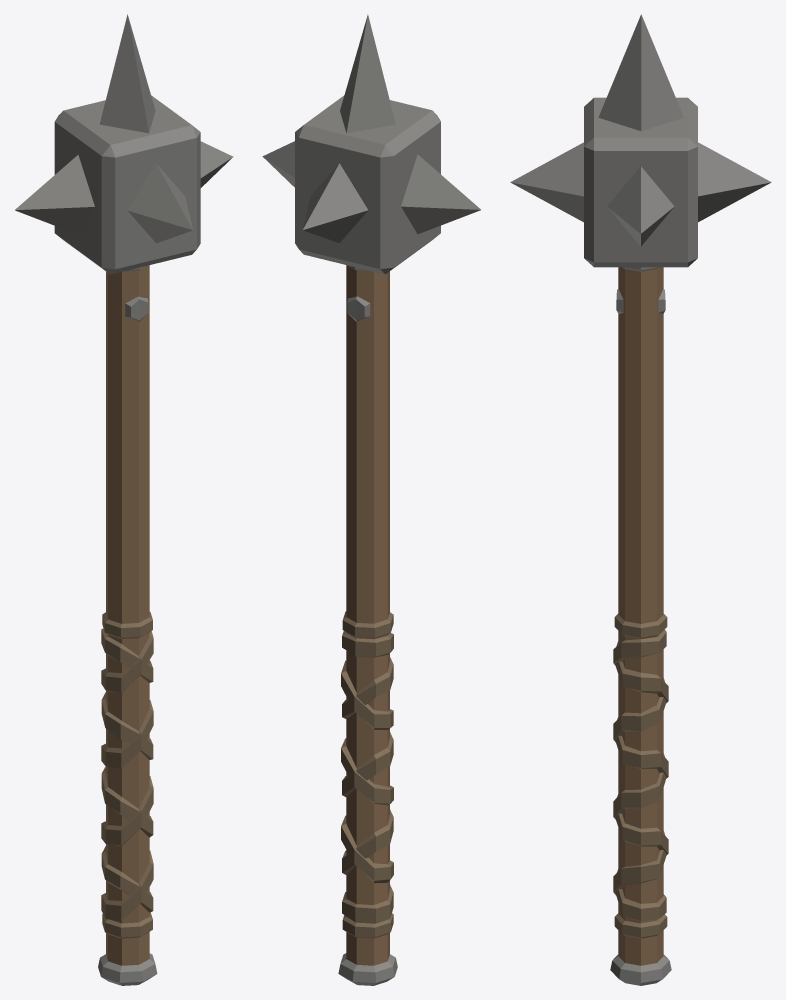
Rendered from SM_pwe_medieval_mace_09.fbx.
3 views of the same model, side by side, from view 1: azimuth 30°, elevation 25°; view 2: azimuth 150°, elevation 25°; view 3: azimuth 270°, elevation 25° (orthographic).
Visible parts, largest first — view 1: SM_pwe_medieval_mace_09; view 2: SM_pwe_medieval_mace_09; view 3: SM_pwe_medieval_mace_09.
Part boxes in pixels (left/top/right/bottom): SM_pwe_medieval_mace_09: left=15, top=14, right=233, bottom=985; SM_pwe_medieval_mace_09: left=262, top=14, right=480, bottom=985; SM_pwe_medieval_mace_09: left=510, top=14, right=771, bottom=985.
Bounding box in the file's own units: 21.81 × 92.22 × 22.57.
